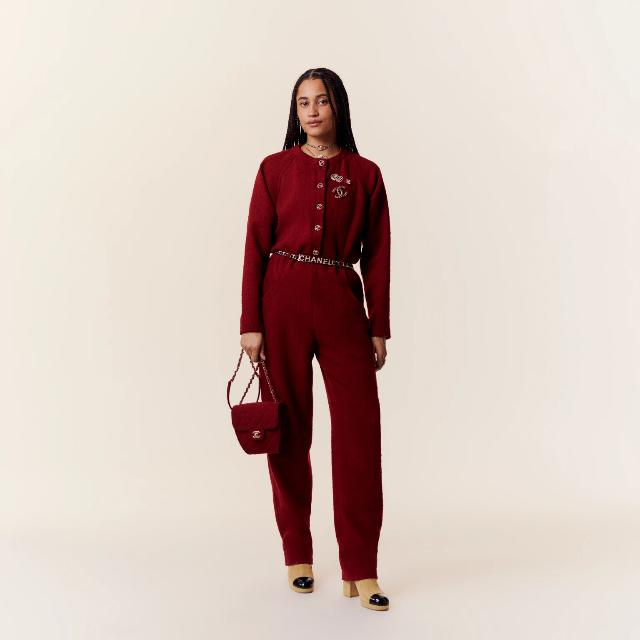Chanel: (296, 252, 335, 269), (328, 184, 354, 202), (250, 428, 264, 442)
